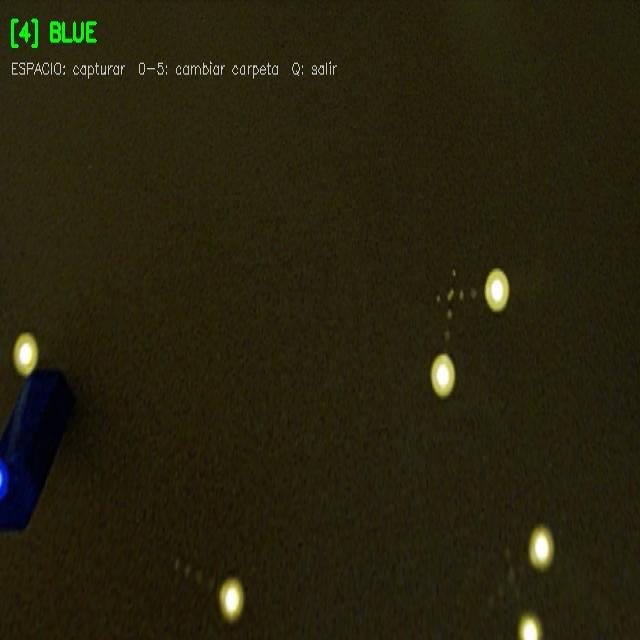blue: (0, 368, 76, 535)
